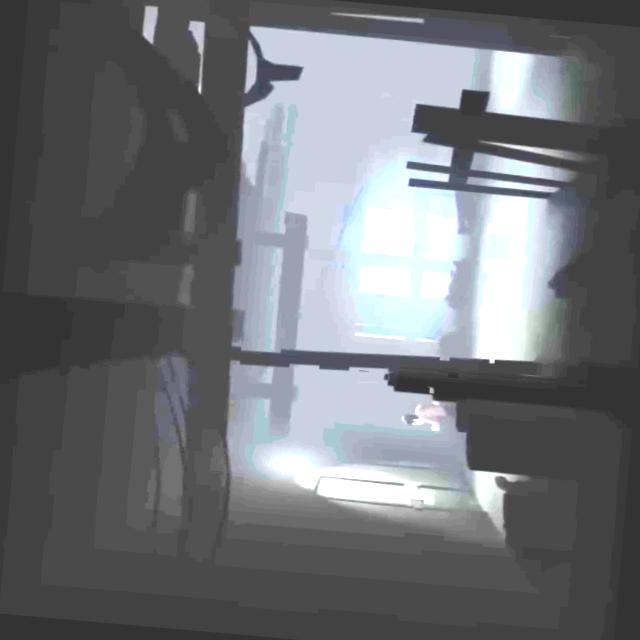boy: (400, 399, 458, 432)
